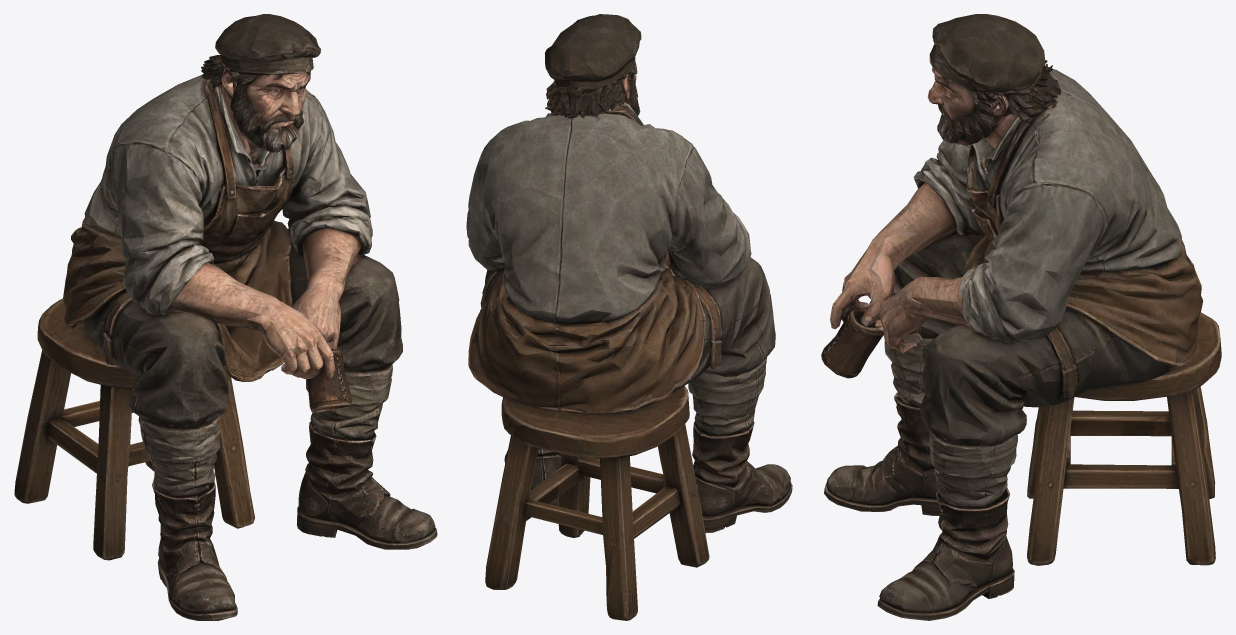
The model's file is meunier.glb.
3 renders of one model, left to right at view 1: azimuth 30°, elevation 25°; view 2: azimuth 150°, elevation 25°; view 3: azimuth 270°, elevation 25°, orthographic. The views are drawn at different scales.
Parts seen in each view (by area): view 1: Mesh_0; view 2: Mesh_0; view 3: Mesh_0.
Boxes of the visible parts, x1,y1,x2,y2 form: Mesh_0: (14,14,437,620); Mesh_0: (466,14,792,620); Mesh_0: (821,14,1221,620).
Size of the model in its own units: 1.07 by 1.9 by 1.27.
1 material, 1 textured.
